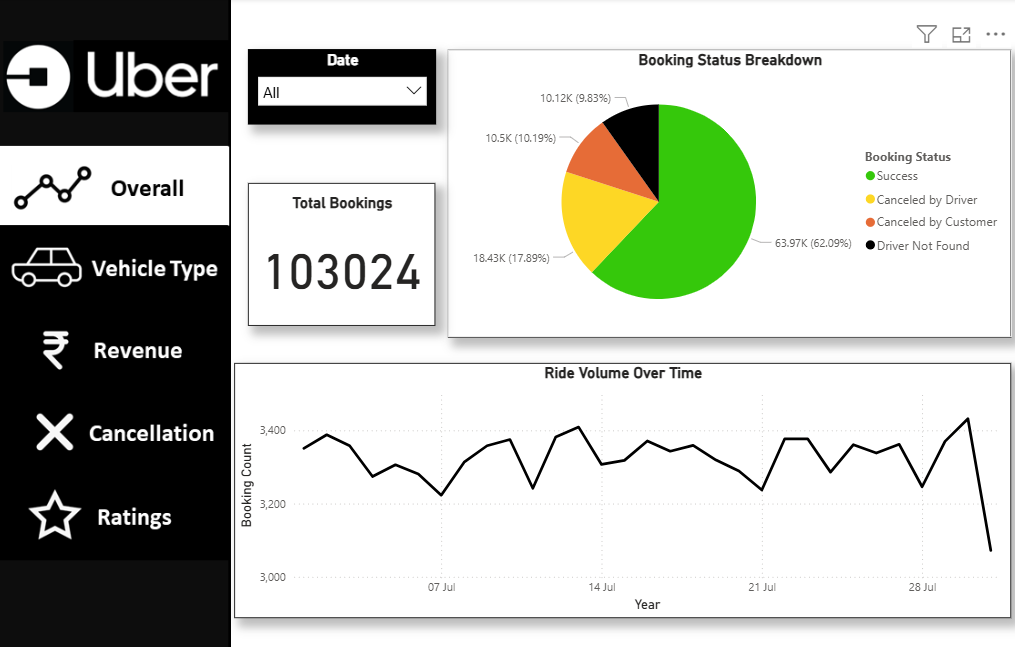

The dashboard page shown, as its layout file describes it:
{"tool":"powerbi","page":{"name":"Overall","canvas":[1280,720],"ordinal":0},"visuals":[{"type":"lineChart","title":"Ride Volume Over Time","fields":{"Category":["July.Date.Variation.Date Hierarchy.Year","July.Date.Variation.Date Hierarchy.Quarter","July.Date.Variation.Date Hierarchy.Month","July.Date.Variation.Date Hierarchy.Day"],"Y":["CountNonNull(July.Booking_ID)"]},"box":[418.6,400.5,853,279.9],"z":0},{"type":"pieChart","title":"Booking Status Breakdown","fields":{"Category":["July.Booking_Status"],"Y":["CountNonNull(July.Booking_ID)"]},"box":[652.8,55.6,618.6,316.4],"z":1000},{"type":"slicer","title":"Date","fields":{"Values":["July.Date"]},"box":[433.3,55.6,206.7,82.7],"z":2000},{"type":"card","title":"Total Bookings","fields":{"Values":["CountNonNull(July.Booking_ID)"]},"box":[433.6,203.1,205.8,156.4],"z":2001}]}

Visuals, with their boxes on the page's 1280x720 design canvas (x1, y1, x2, y2). These are canvas units, not pixel positions in the 1015x647 screenshot, which may show the page scaled, cropped or inside an application window:
"Ride Volume Over Time" lineChart: bbox=[419, 400, 1272, 680]
"Booking Status Breakdown" pieChart: bbox=[653, 56, 1271, 372]
"Date" slicer: bbox=[433, 56, 640, 138]
"Total Bookings" card: bbox=[434, 203, 639, 360]
